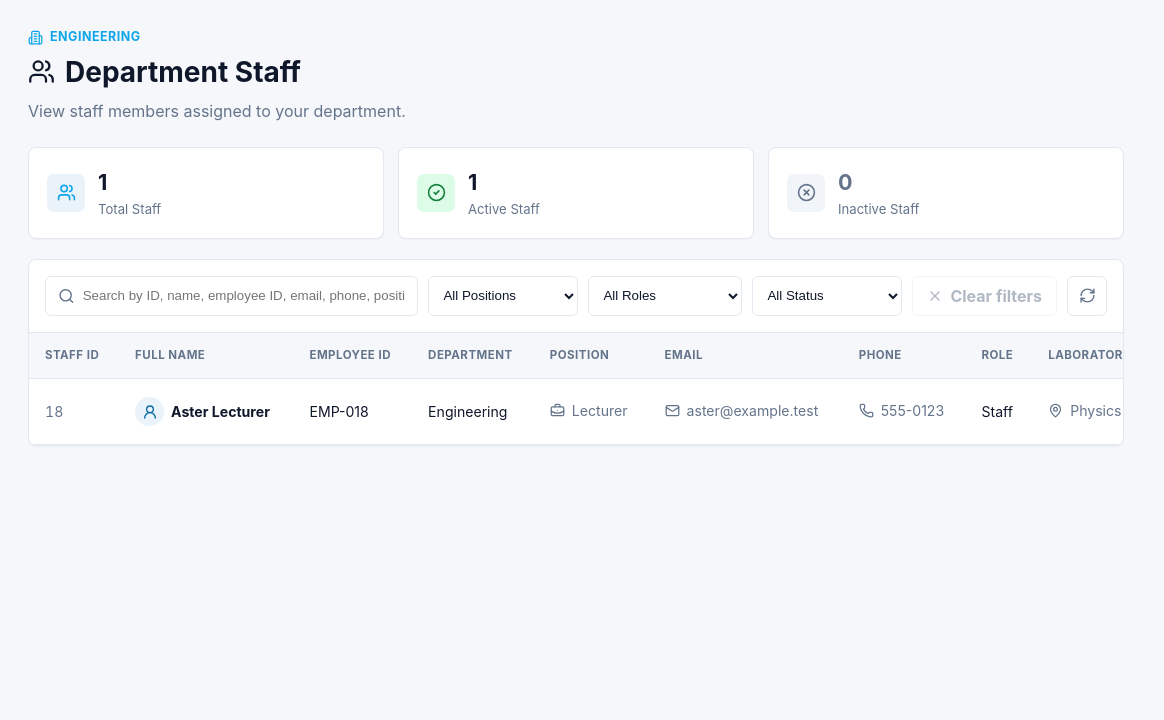
Test: Department Head staff › distinguishes an empty filtered result from an empty department directory
expect the text "Aster Lecturer" is shown: met, box [171, 401, 270, 422]
Replace the text in the field named "Search staff" with "Nobody": (244, 296) [83, 288, 405, 303]
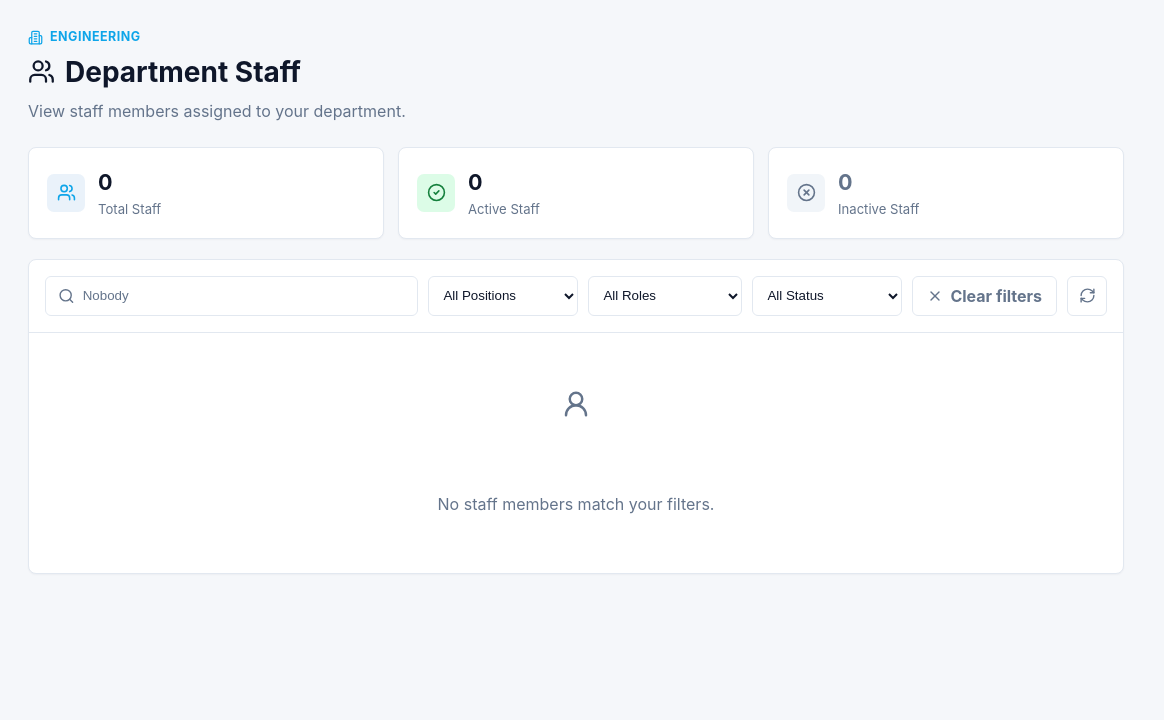
expect the text "No staff members match your filters." is shown: met, box [438, 492, 714, 516]
